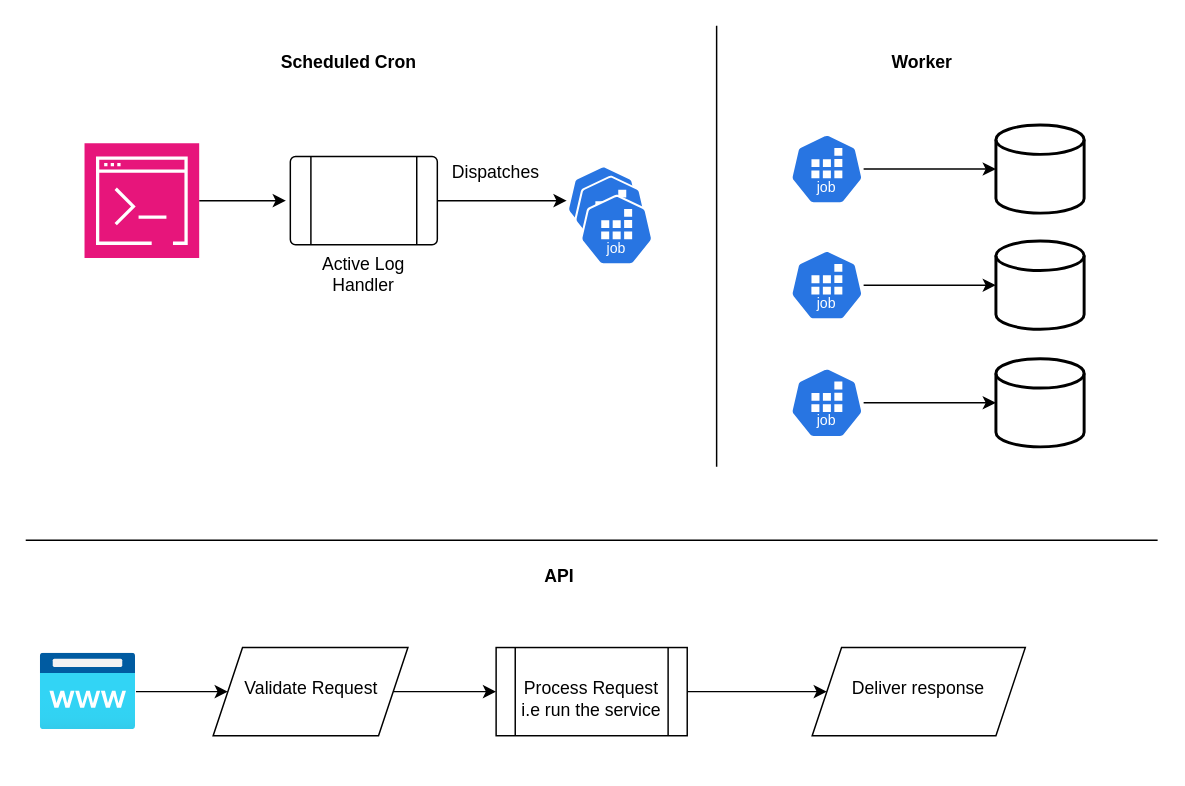
This 1185x786 diagram has some shape labels left out. Each missing label, with the centre of its shape:
"/count" belongs at (x=87, y=691).
"log:import" belongs at (x=141, y=200).
